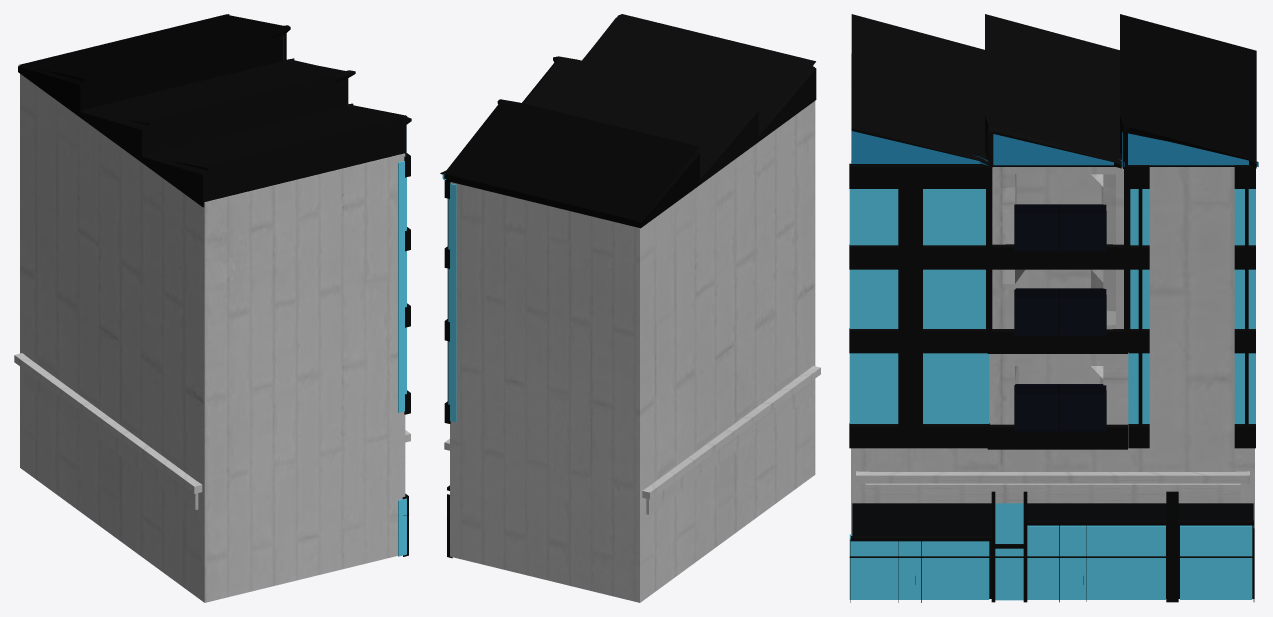
File: Building 5.obj
The picture shows the model from 3 angles, left to right: view 1: azimuth 30°, elevation 25°; view 2: azimuth 150°, elevation 25°; view 3: azimuth 270°, elevation 25°; orthographic projection. The views are drawn at different scales.
Parts seen in each view (by area): view 1: Cube, Cube.003, Cube.002, Cube.001, Cube.004, Cube.010; view 2: Cube, Cube.002, Cube.001, Cube.003, Cube.004, Cube.043; view 3: Cube, Cube.010, Cube.001, Cube.002, Cube.003, Cube.004, Cube.051, Cube.044, Cube.045, Cube.012, Cube.054, Cube.043 (+30 smaller).
Boxes of the visible parts, x1=… form: Cube: x1=20, y1=74, x2=405, y2=602; Cube.003: x1=140, y1=103, x2=411, y2=207; Cube.002: x1=18, y1=14, x2=290, y2=116; Cube.001: x1=79, y1=58, x2=355, y2=162; Cube.004: x1=14, y1=353, x2=410, y2=510; Cube.010: x1=398, y1=161, x2=406, y2=412; Cube: x1=450, y1=101, x2=815, y2=602; Cube.002: x1=440, y1=99, x2=699, y2=228; Cube.001: x1=522, y1=56, x2=758, y2=184; Cube.003: x1=582, y1=14, x2=816, y2=142; Cube.004: x1=444, y1=365, x2=820, y2=514; Cube.043: x1=448, y1=183, x2=456, y2=422; Cube: x1=851, y1=53, x2=1254, y2=598; Cube.010: x1=849, y1=189, x2=989, y2=423; Cube.001: x1=985, y1=14, x2=1121, y2=168; Cube.002: x1=1120, y1=14, x2=1256, y2=168; Cube.003: x1=851, y1=14, x2=988, y2=167; Cube.004: x1=856, y1=471, x2=1249, y2=503; Cube.051: x1=1027, y1=525, x2=1165, y2=599; Cube.044: x1=852, y1=503, x2=1253, y2=598; Cube.045: x1=849, y1=534, x2=989, y2=599; Cube.012: x1=898, y1=178, x2=922, y2=447; Cube.054: x1=1180, y1=525, x2=1252, y2=599; Cube.043: x1=1234, y1=189, x2=1255, y2=423.
Bounding box in the file's own units: 5.31 × 10.03 × 7.76.
